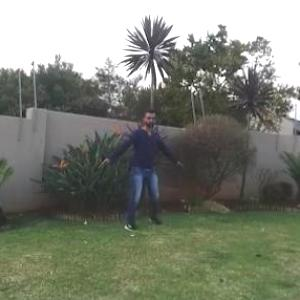land: (72, 94, 198, 248)
